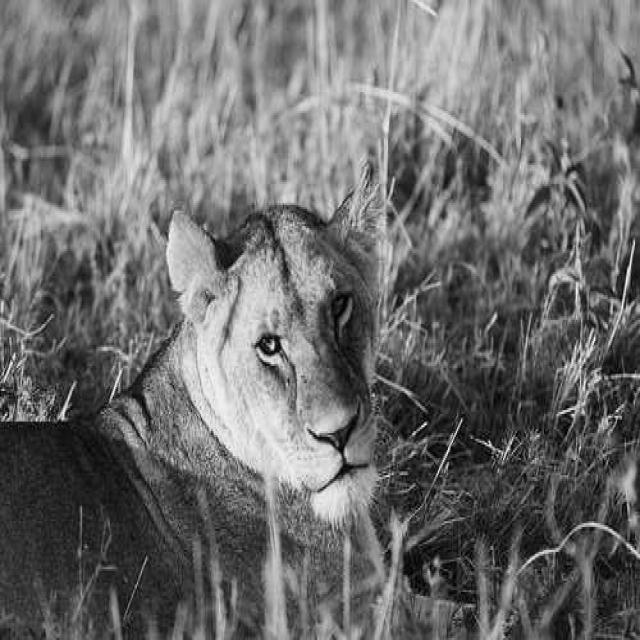Lion: (150, 170, 459, 615)
